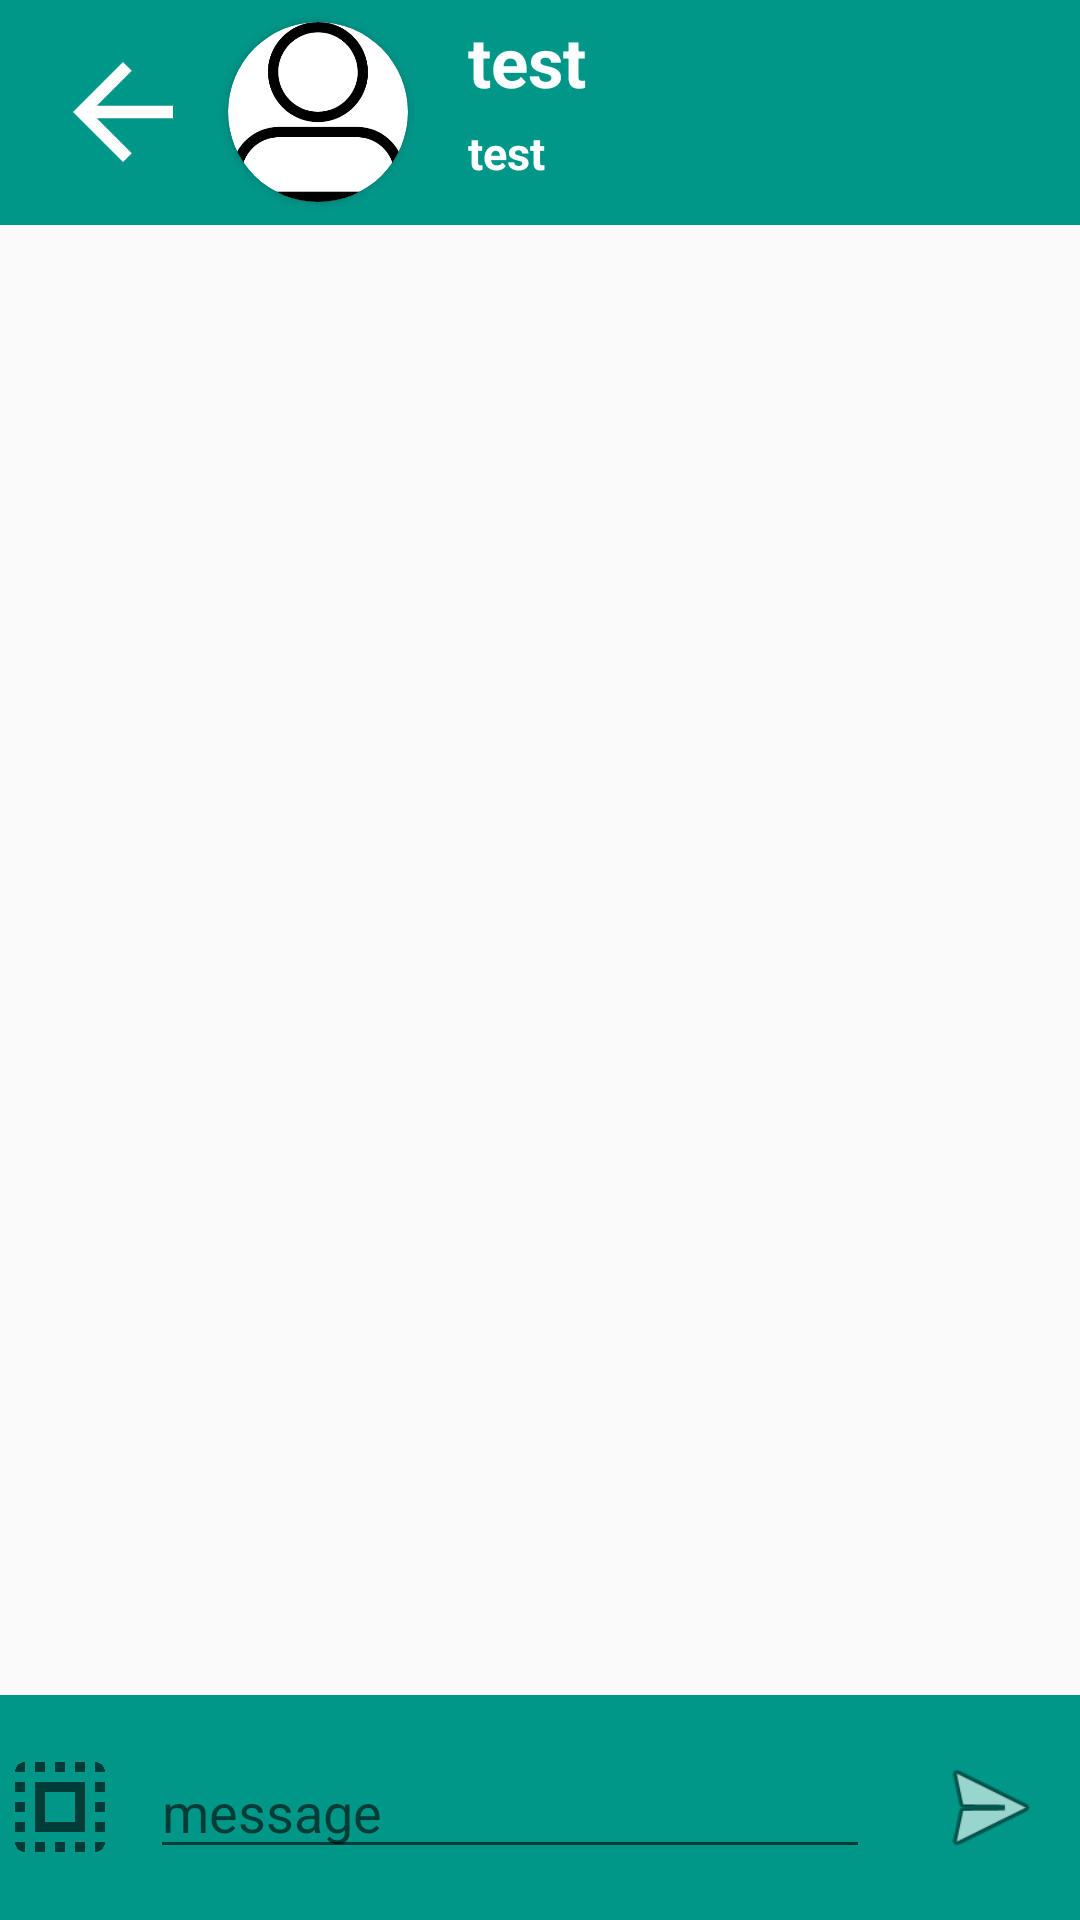

Icons on this 1080x1920 Android screen, each with its box as (left=x1, top=y1, right=x2, bottom=y2):
profile: (left=228, top=22, right=408, bottom=202)
send: (left=953, top=1770, right=1029, bottom=1845)
